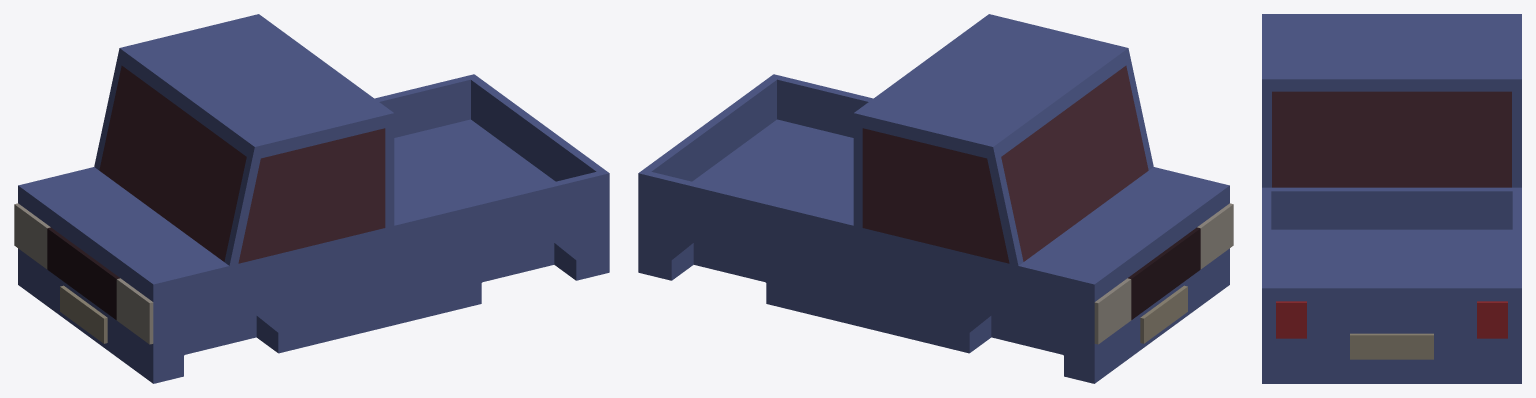
The model's file is Pickup_Blue.fbx.
The picture shows the model from 3 angles, left to right: view 1: azimuth 30°, elevation 25°; view 2: azimuth 150°, elevation 25°; view 3: azimuth 270°, elevation 25°; orthographic projection. The views are drawn at different scales.
Visible parts, largest first — view 1: Pickup_Blue, Pickup_Lights; view 2: Pickup_Blue, Pickup_Lights; view 3: Pickup_Blue, Pickup_Lights.
Part boxes in pixels (x1,y1,x2,y2): Pickup_Blue: (18, 14, 609, 383); Pickup_Lights: (14, 203, 153, 344); Pickup_Blue: (638, 14, 1229, 383); Pickup_Lights: (1094, 203, 1233, 344); Pickup_Blue: (1262, 14, 1521, 383); Pickup_Lights: (1276, 301, 1507, 338).
Bounding box in the file's own units: 3.66 × 1.6 × 1.85.
